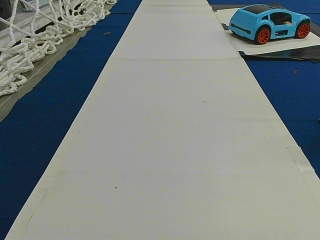car: (229, 5, 309, 43)
